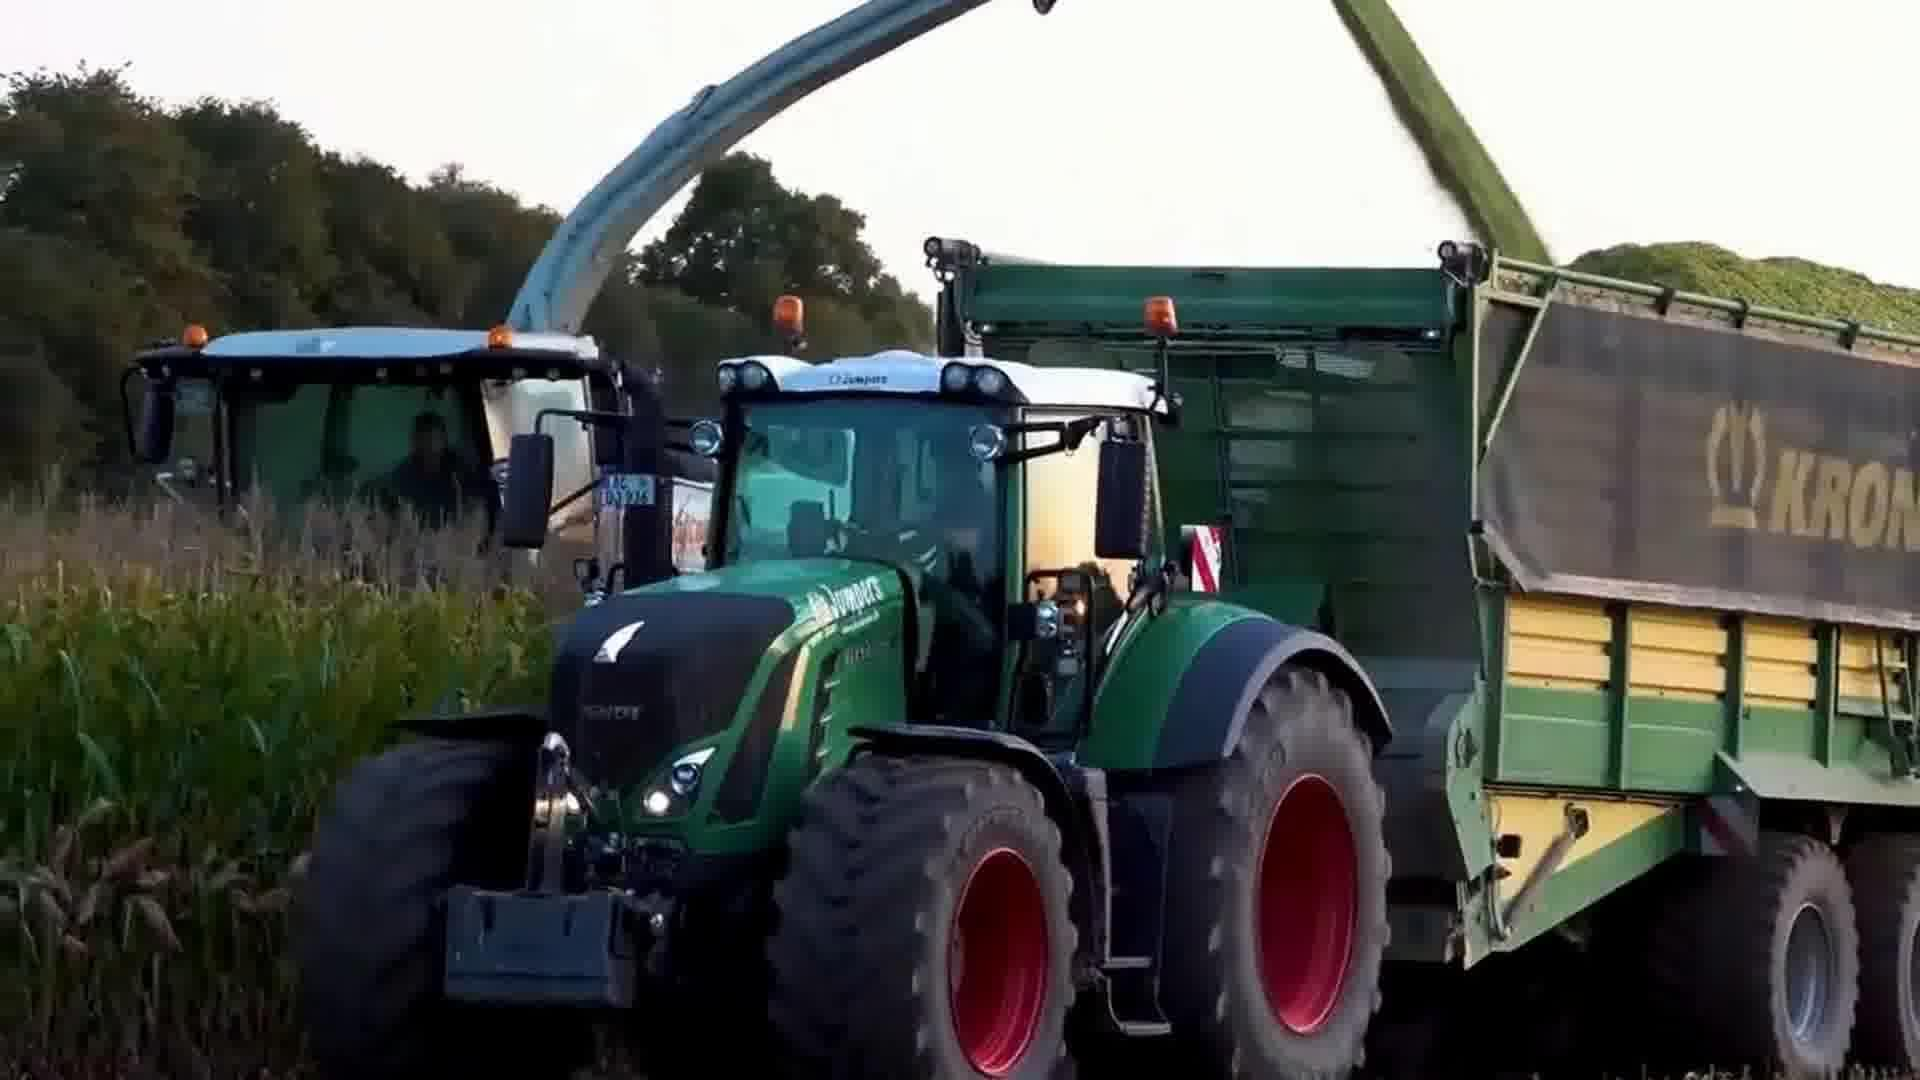combine harvester: (115, 0, 1062, 611)
tractor: (269, 293, 1397, 1080)
trailer: (917, 217, 1920, 1080)
